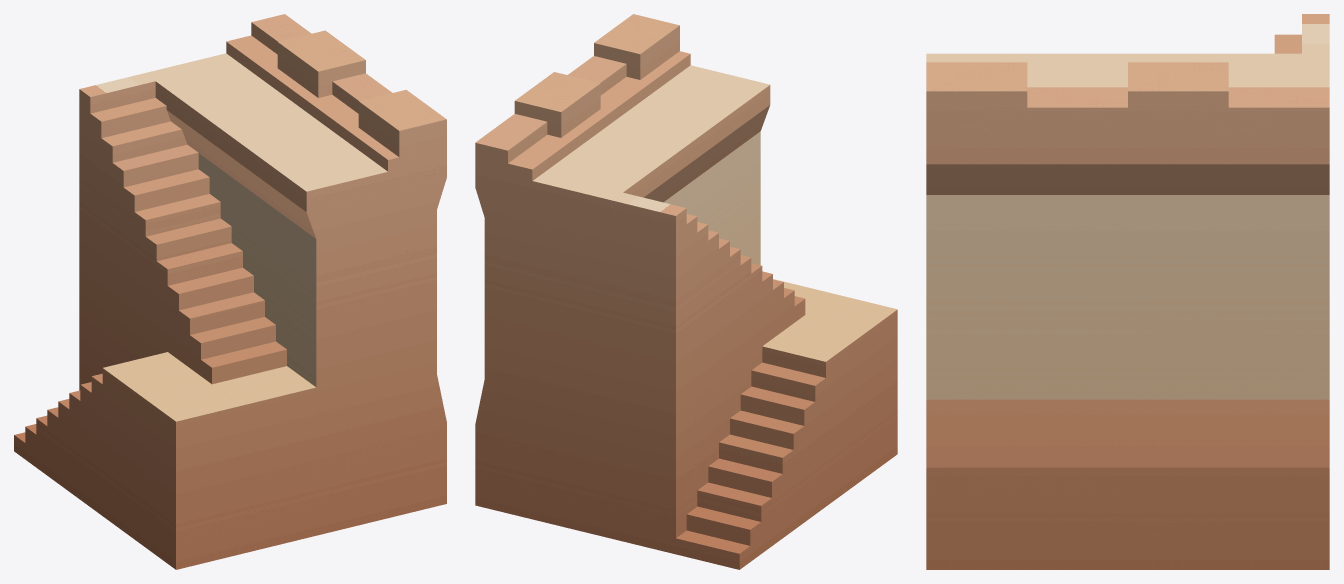
Rendered from wall-narrow-stairs.glb.
3 renders of one model, left to right at view 1: azimuth 30°, elevation 25°; view 2: azimuth 150°, elevation 25°; view 3: azimuth 270°, elevation 25°, orthographic. The views are drawn at different scales.
Parts seen in each view (by area): view 1: wall-narrow-stairs; view 2: wall-narrow-stairs; view 3: wall-narrow-stairs.
Part boxes in pixels (bbox=[...]): wall-narrow-stairs: bbox=[14, 14, 446, 569]; wall-narrow-stairs: bbox=[475, 14, 897, 569]; wall-narrow-stairs: bbox=[926, 14, 1329, 569].
Bounding box in the file's own units: 0.965 × 1.31 × 1.
1 material, 1 textured.
